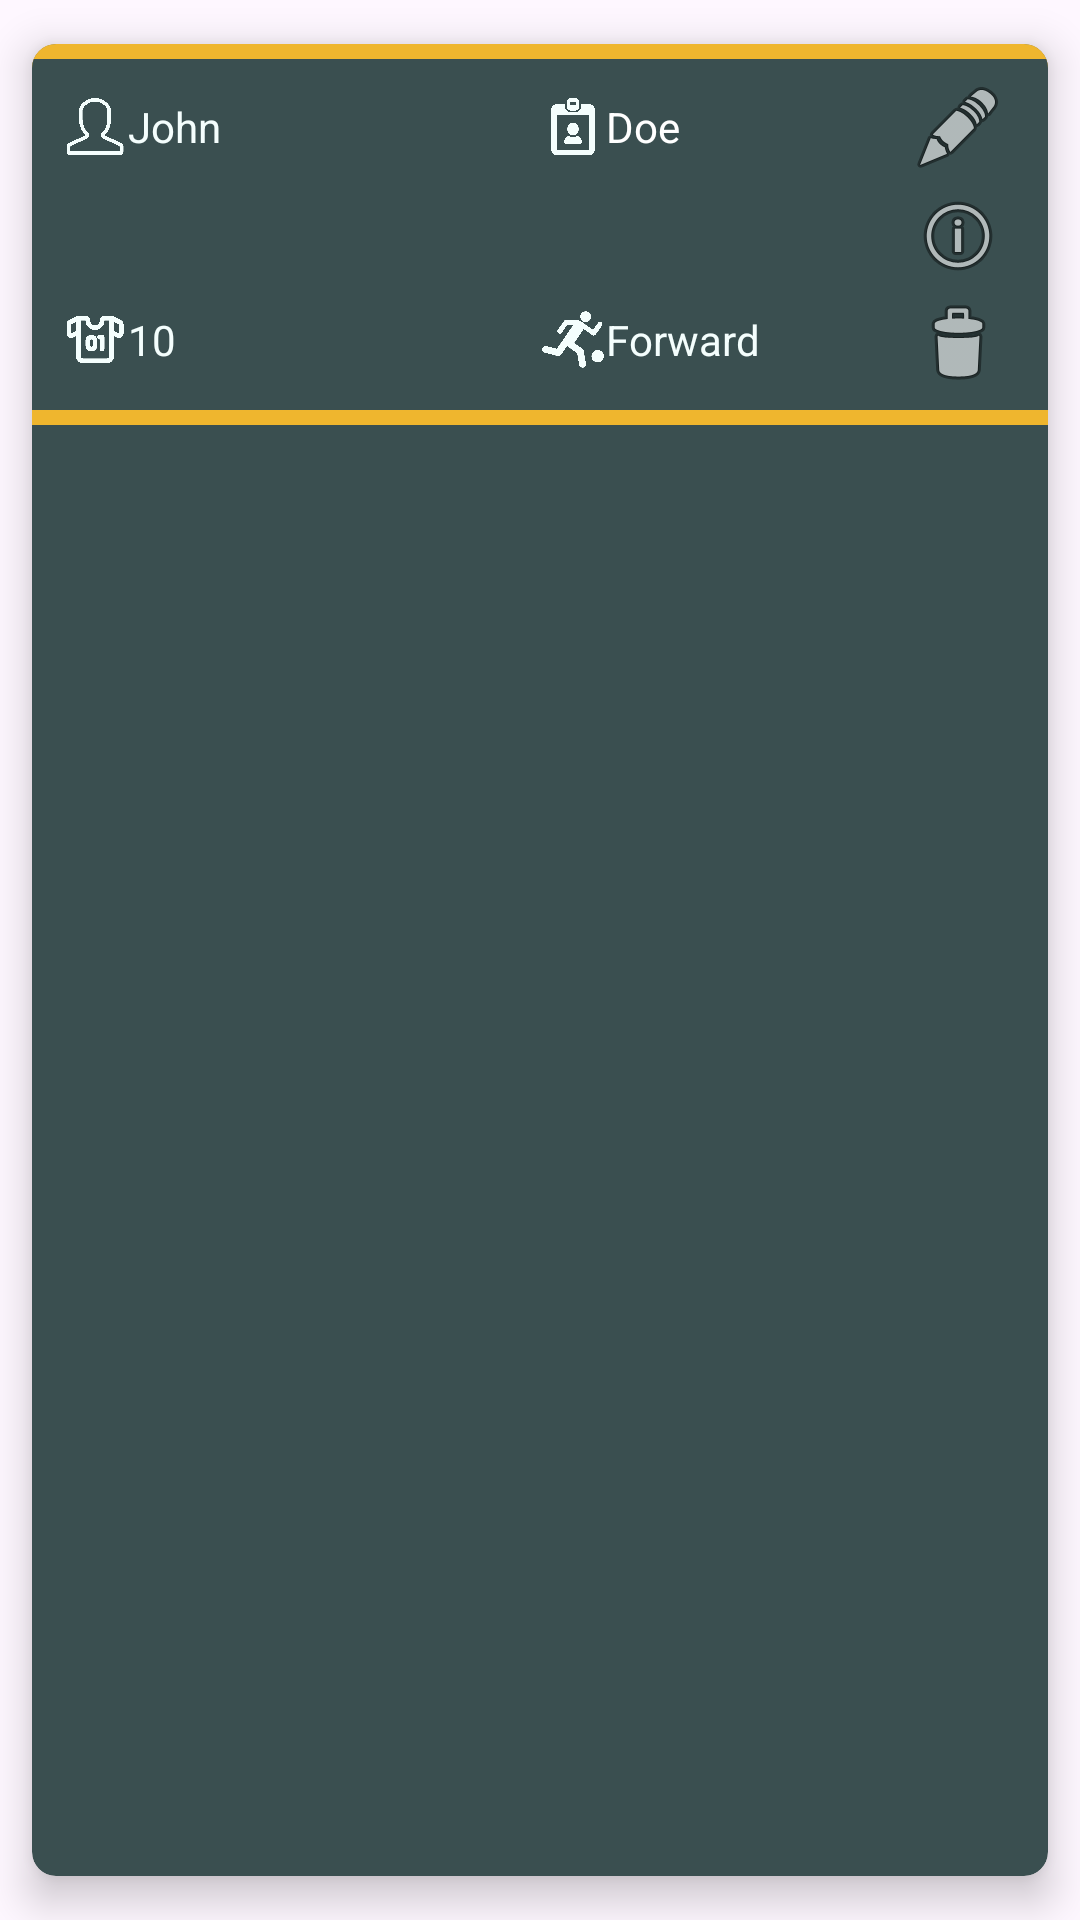

Where icons sit on this 1080x1920 app screen, as region(x1, y1, x2, y2):
delete: region(932, 306, 985, 379)
edit: region(918, 87, 998, 167)
football jersey: region(67, 316, 124, 363)
info details: region(924, 202, 992, 270)
lastname: region(551, 98, 595, 155)
position: region(542, 311, 604, 368)
